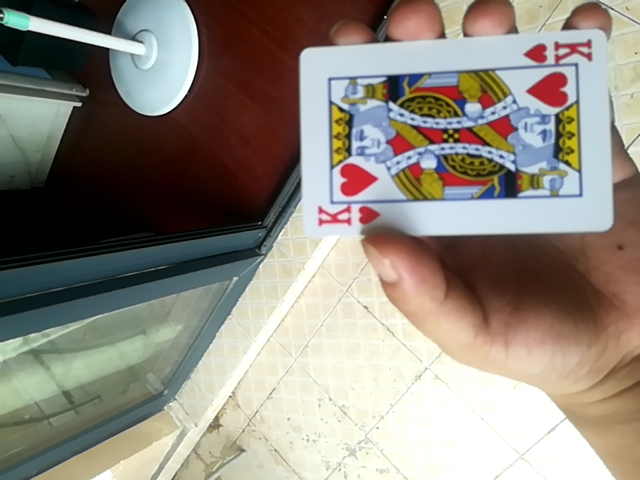hx k: (298, 32, 610, 241)
